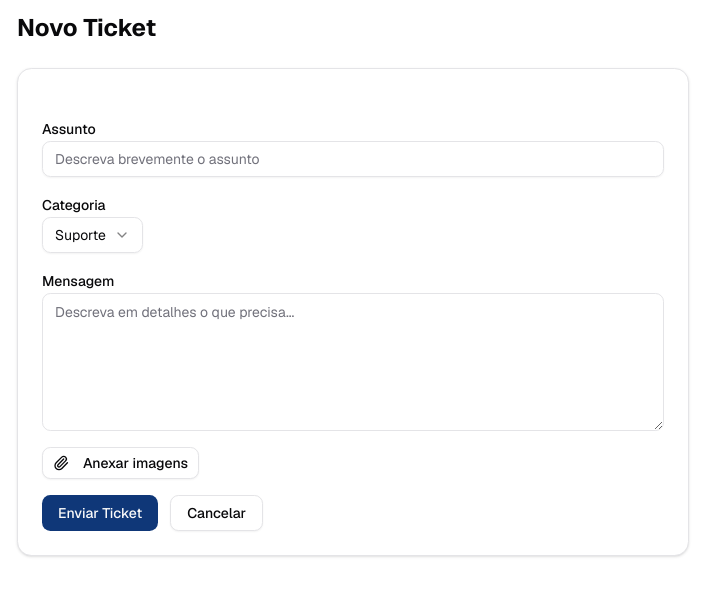
Test case: NewTicketPage › error handling › shows 'Erro de conexão' when fetch throws a network error
The width and height of the screenshot is (707, 610).
Type "Assunto" into the field labelled "Assunto" at (353, 159), box [42,141,664,177]
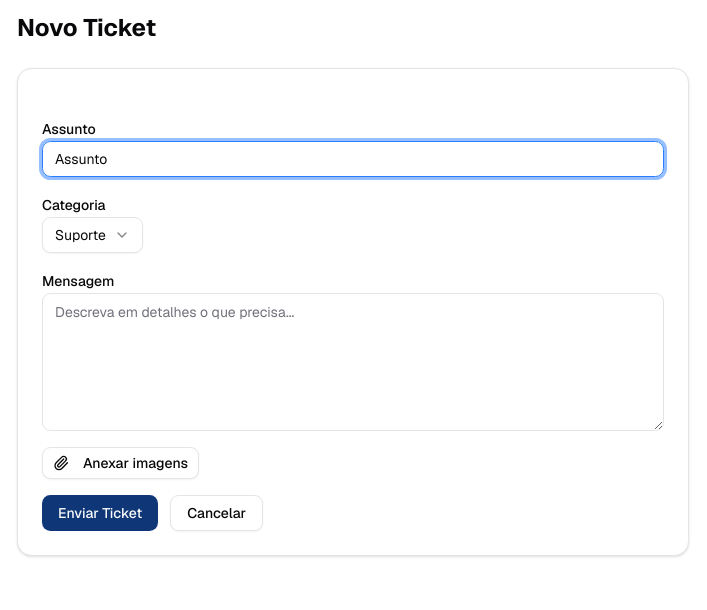
Type "Mensagem" into the text box labelled "Mensagem" at (353, 362), box [42,293,664,431]
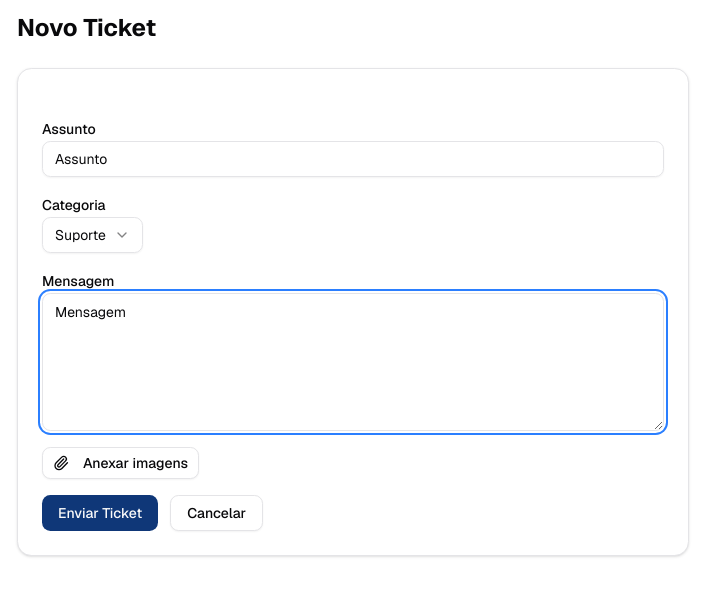
Click the button "Enviar Ticket" at (100, 513), box [42,495,158,531]
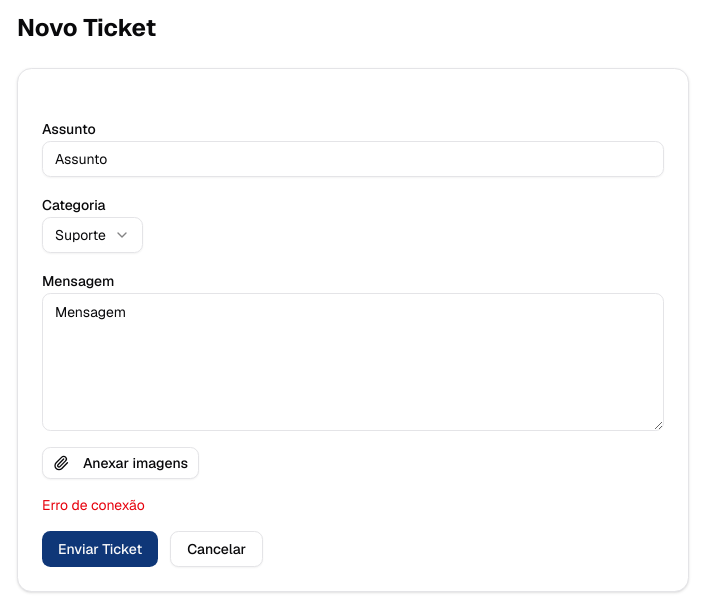
Check: the text "Erro de conexão" is shown, box [42,496,145,514]
